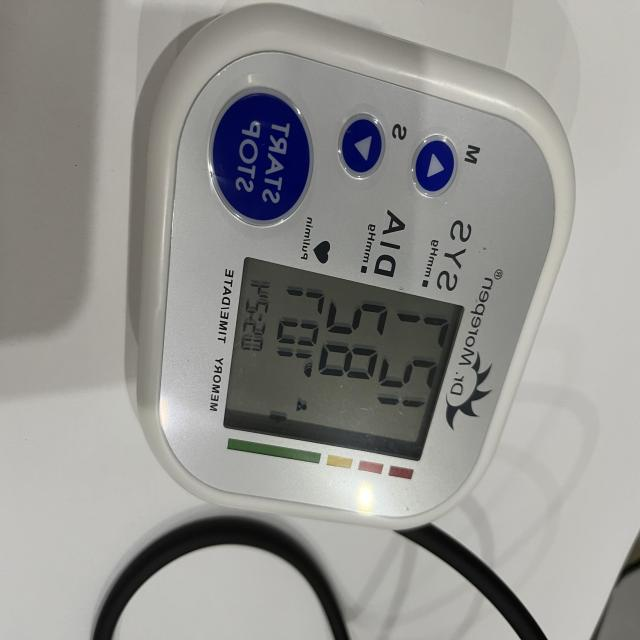bp: (125, 4, 577, 534)
